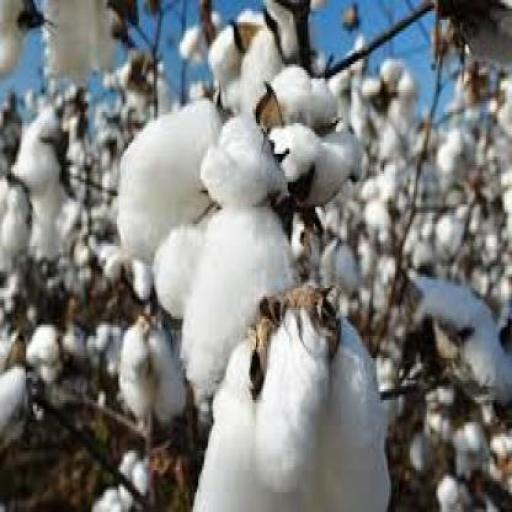cotton_ready: (94, 98, 316, 355), (200, 330, 433, 503), (238, 50, 374, 210)
